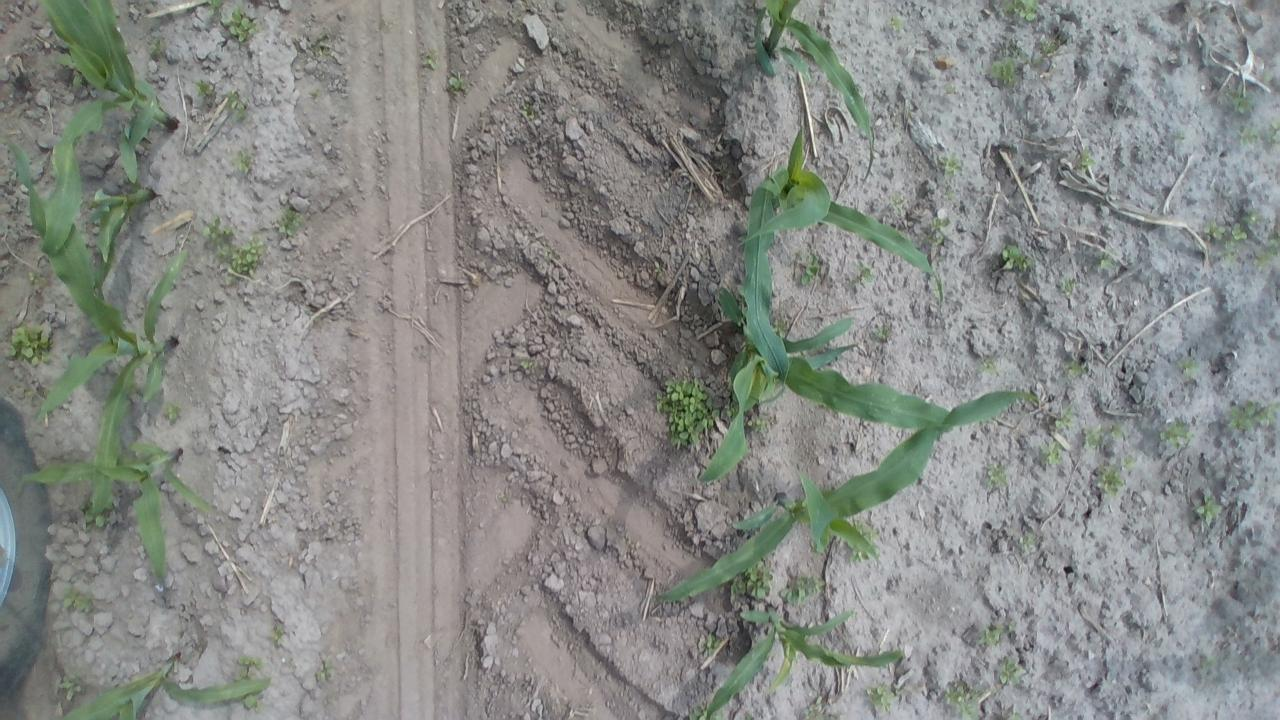Maize: (648, 386, 1034, 610), (5, 117, 192, 535), (694, 281, 1022, 484), (740, 123, 949, 382), (38, 0, 181, 261), (18, 439, 219, 586), (688, 598, 907, 716), (748, 0, 887, 155), (61, 112, 160, 304), (61, 648, 274, 720)
Weeds: (656, 375, 718, 452), (216, 236, 266, 284), (1224, 397, 1277, 432), (940, 681, 990, 718), (8, 324, 52, 366), (1092, 457, 1132, 498), (780, 574, 826, 608), (732, 564, 775, 600), (986, 52, 1026, 88), (850, 518, 882, 558), (1159, 415, 1195, 450), (224, 12, 262, 45), (998, 242, 1034, 276), (864, 680, 900, 714), (200, 216, 233, 253), (60, 586, 97, 615), (1192, 492, 1222, 526), (274, 206, 306, 236), (78, 498, 108, 529), (997, 653, 1026, 685), (999, 0, 1042, 21), (233, 654, 265, 682), (1252, 234, 1277, 269), (1047, 403, 1077, 432), (848, 532, 875, 564), (796, 252, 821, 286), (1227, 86, 1255, 116), (925, 215, 951, 246), (800, 696, 836, 718), (1040, 440, 1066, 469), (222, 90, 246, 121), (16, 379, 43, 406), (978, 622, 1006, 648), (58, 674, 84, 702), (1080, 424, 1108, 450), (984, 462, 1010, 490), (1178, 355, 1202, 385), (939, 151, 965, 178), (1201, 220, 1232, 242), (698, 632, 724, 658), (231, 148, 255, 176), (848, 262, 874, 286), (1092, 249, 1120, 271), (446, 69, 470, 94), (314, 656, 336, 683), (1076, 147, 1096, 176), (193, 78, 217, 102), (1238, 206, 1262, 230), (887, 192, 909, 218), (685, 704, 723, 719), (312, 32, 334, 57), (162, 400, 184, 425), (1236, 126, 1261, 148), (25, 270, 46, 296), (1060, 356, 1087, 376), (1057, 272, 1079, 296), (886, 13, 908, 37), (269, 622, 290, 647), (849, 543, 872, 565), (979, 352, 1002, 374), (1035, 38, 1062, 56), (752, 413, 774, 435), (1232, 218, 1253, 241), (419, 49, 440, 72), (241, 692, 265, 712), (200, 0, 227, 17), (1020, 387, 1041, 408), (1106, 420, 1127, 440), (1016, 533, 1038, 552), (148, 37, 166, 58), (874, 322, 892, 341), (520, 101, 536, 121), (1264, 123, 1276, 149), (304, 85, 324, 100), (520, 357, 536, 372)
